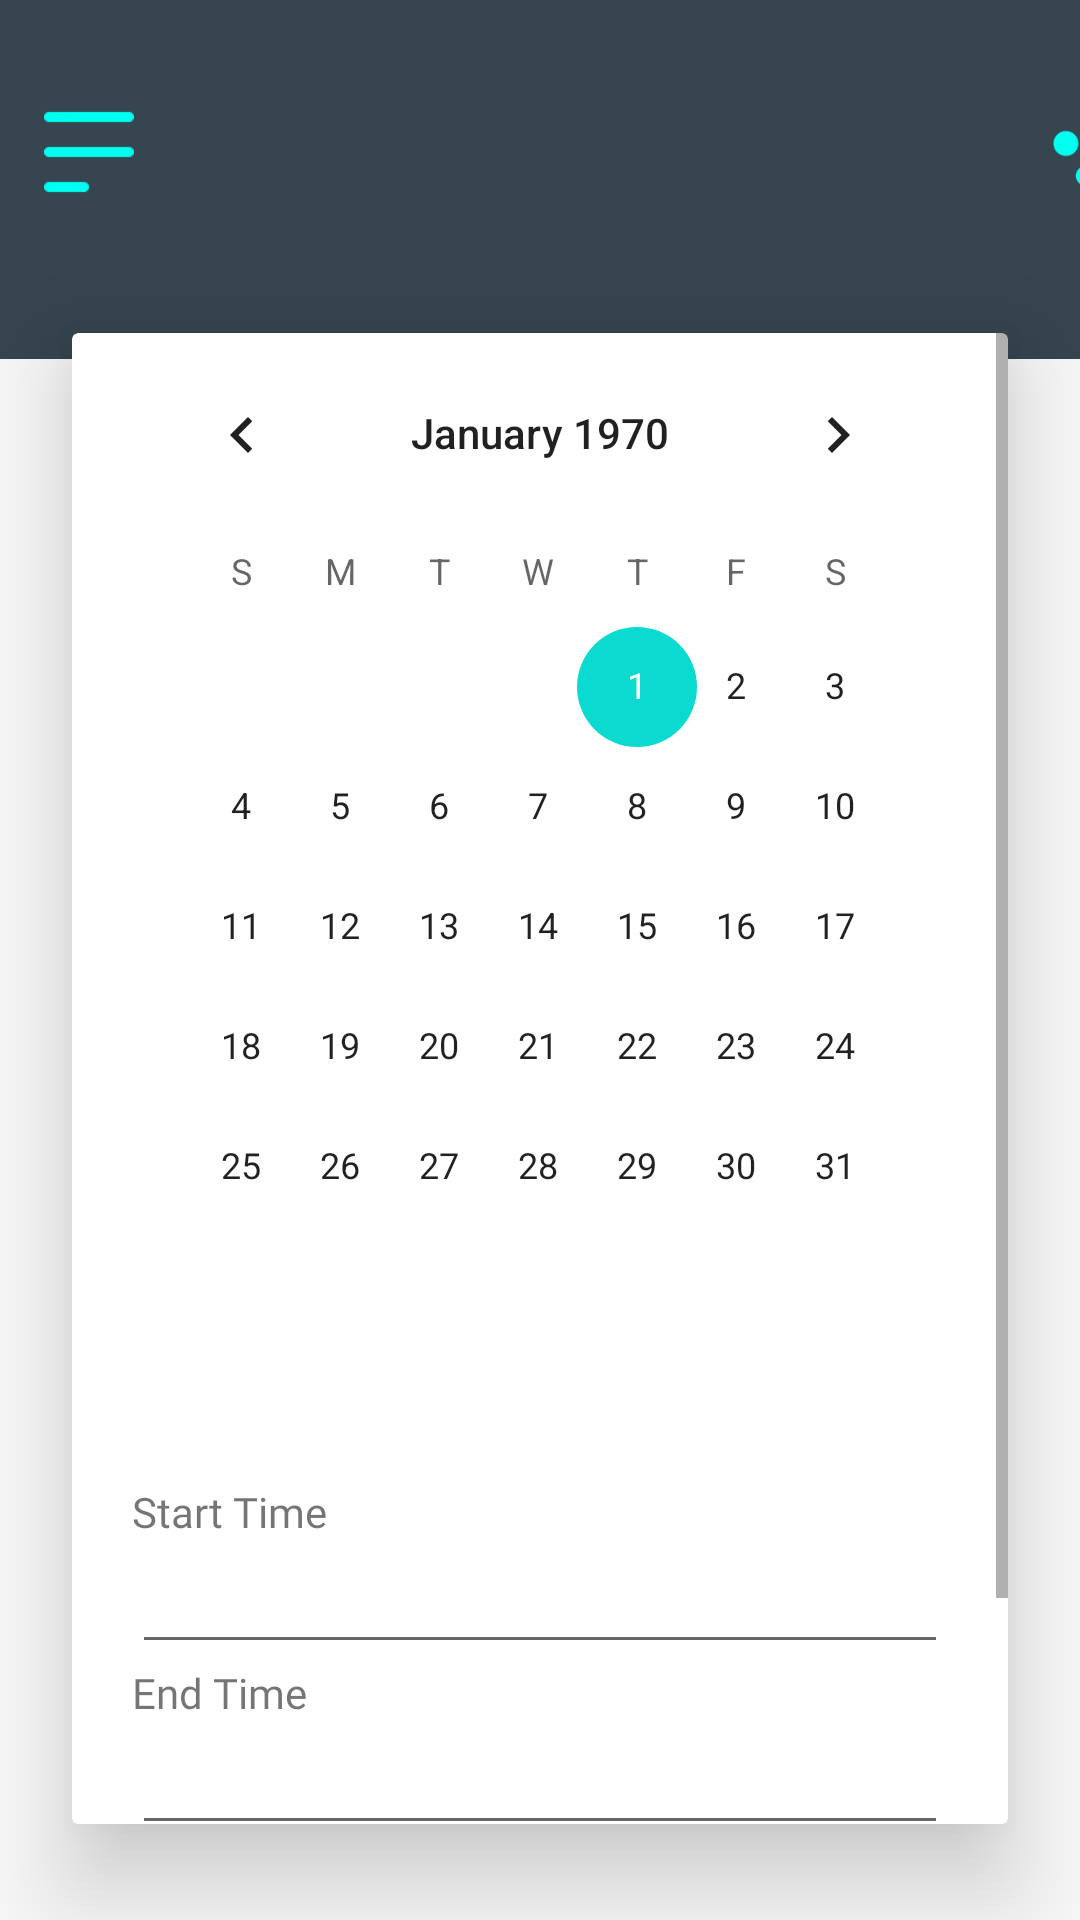

Screen size 1080px x 1920px. Icon name, then its center in pixels as (x=x, y=y):
menu: (x=89, y=152)
